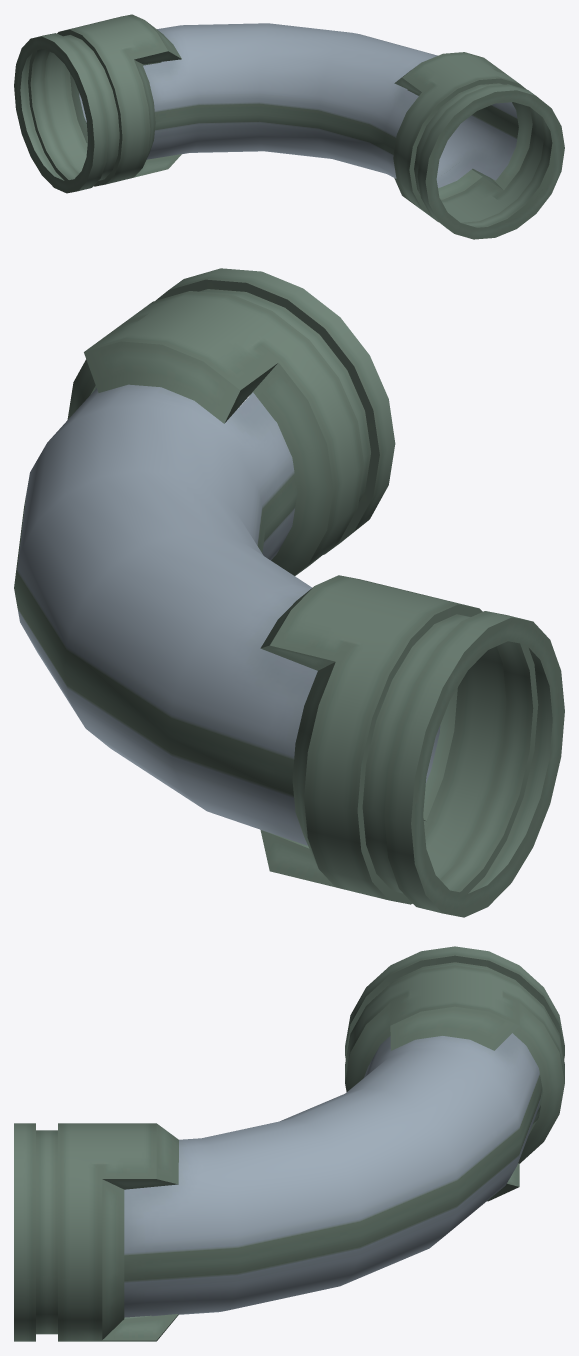
File: pipe turn.fbx
The picture shows the model from 3 angles, top to bottom: view 1: azimuth 30°, elevation 25°; view 2: azimuth 150°, elevation 25°; view 3: azimuth 270°, elevation 25°; orthographic projection. The views are drawn at different scales.
Parts seen in each view (by area): view 1: pipe_turn; view 2: pipe_turn; view 3: pipe_turn.
Part boxes in pixels (x1,y1,x2,y2): pipe_turn: [14, 14, 564, 239]; pipe_turn: [14, 268, 564, 917]; pipe_turn: [14, 946, 564, 1341].
Size of the model in its own units: 6.25 by 2.49 by 6.25.
1 material, 1 textured.
